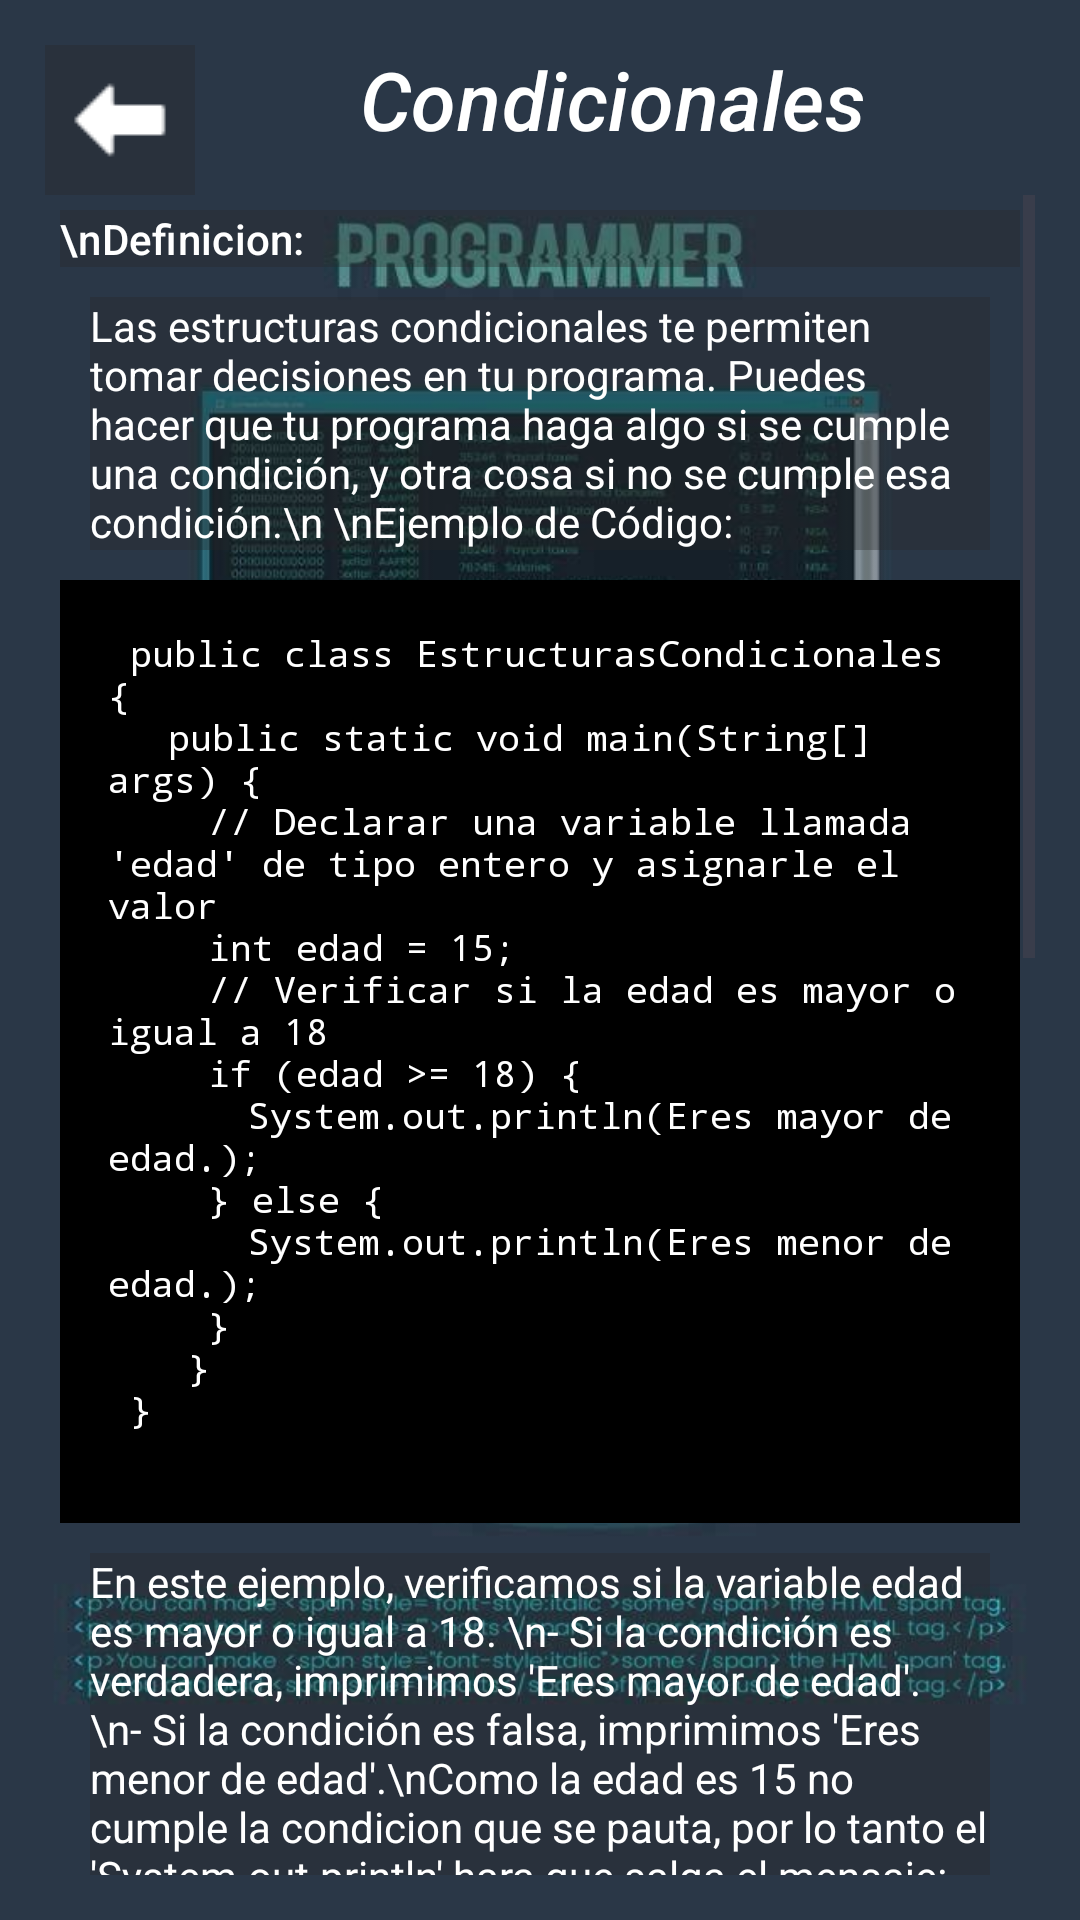

Screen size 1080px×1920px. Icon name, then its center in pixels as (x,y):
buttonback: (120,120)
